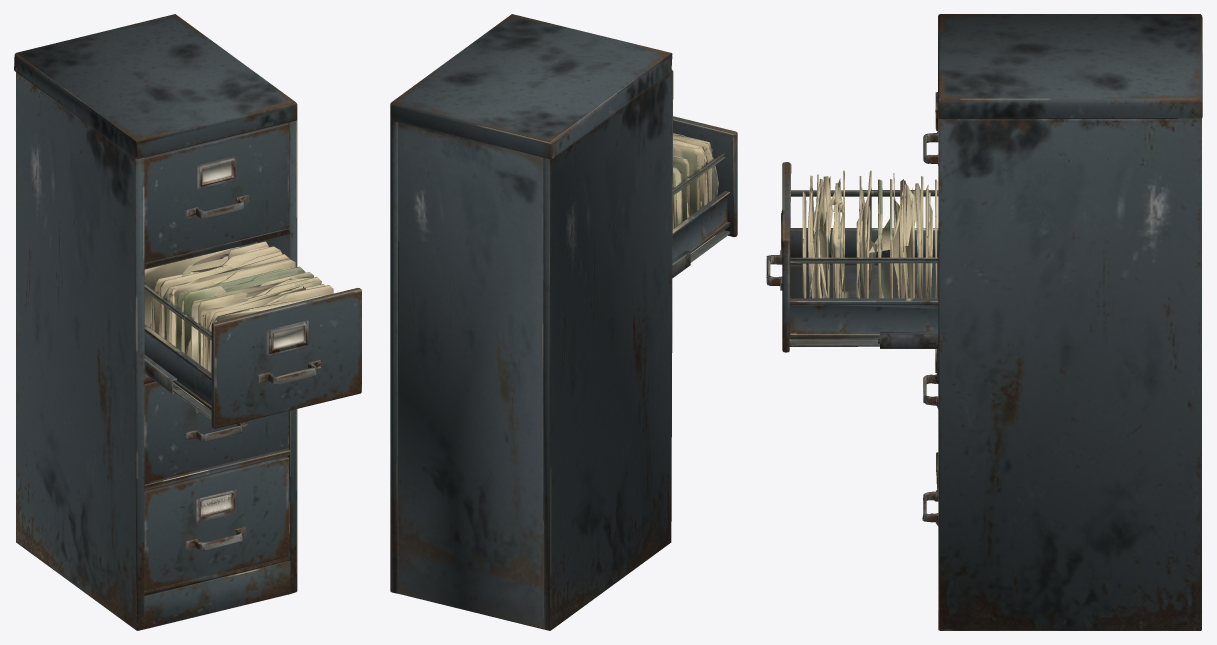
The model's file is silo81_filing_cabinet.glb.
The picture shows the model from 3 angles, left to right: view 1: azimuth 30°, elevation 25°; view 2: azimuth 150°, elevation 25°; view 3: azimuth 270°, elevation 25°; orthographic projection. The views are drawn at different scales.
Bounding box in the file's own units: 0.3301 × 0.9512 × 0.7065.
Materials: 1 (1 with a texture image).
